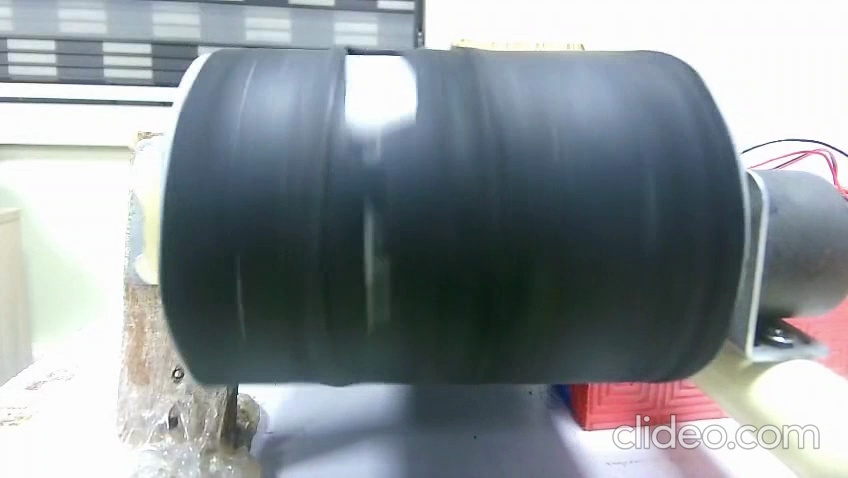hole: (314, 44, 436, 137)
